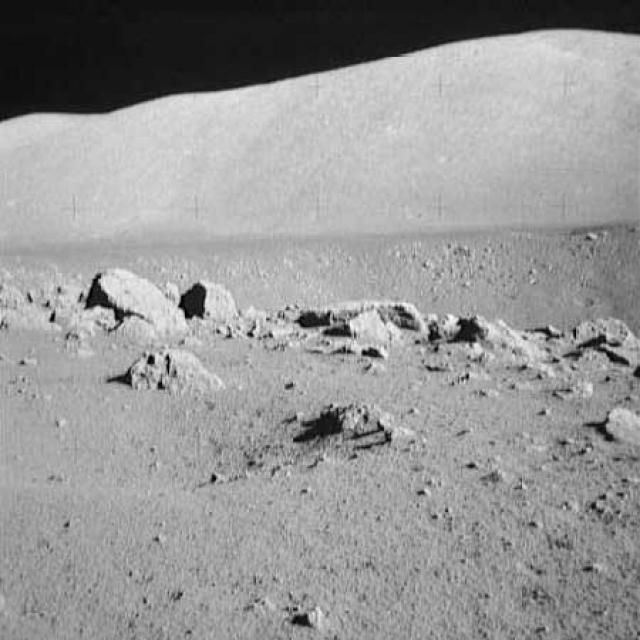crater: (0, 218, 639, 341), (0, 399, 286, 488)
rock: (91, 267, 184, 328), (122, 349, 219, 395), (238, 299, 339, 337), (573, 316, 639, 371), (0, 284, 57, 334), (464, 313, 564, 341), (401, 303, 462, 341), (183, 277, 235, 321), (343, 310, 403, 342), (603, 399, 639, 444)
